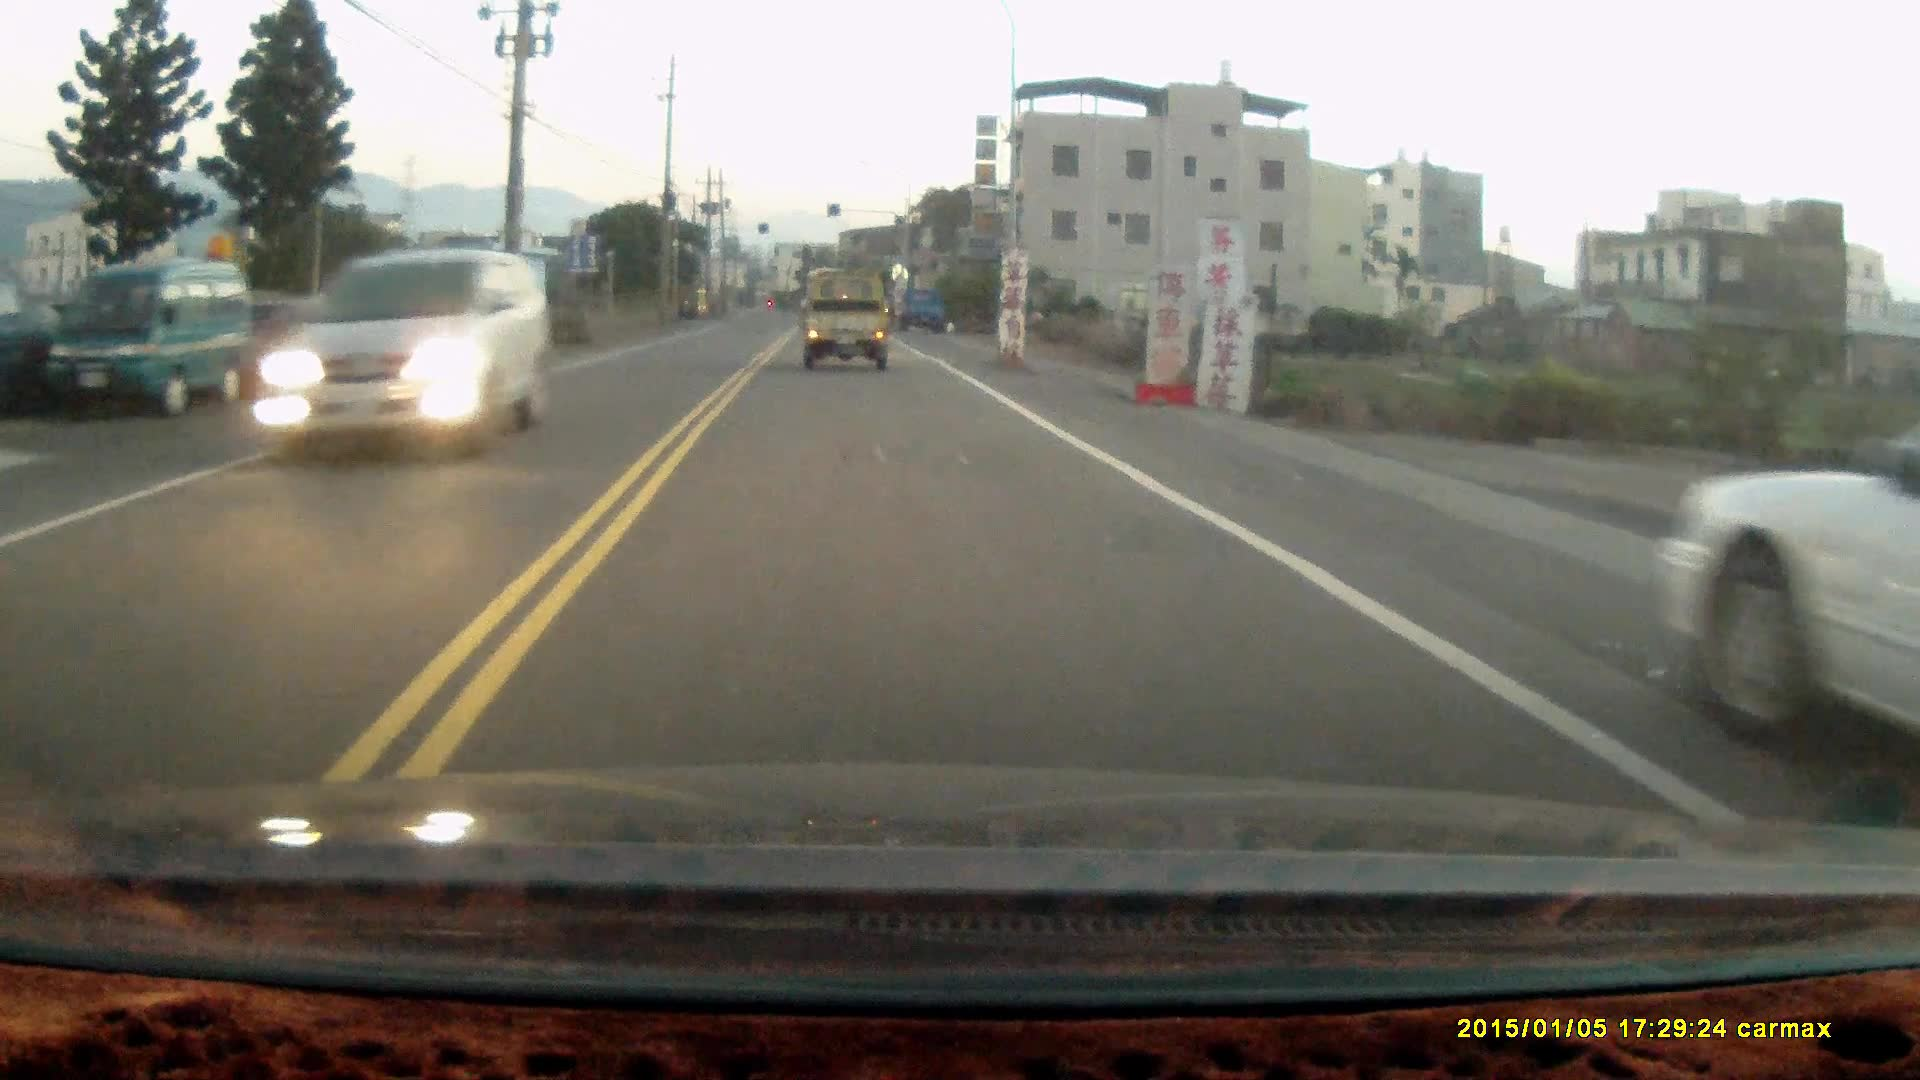vehicle: (1658, 393, 1920, 762), (264, 251, 553, 477), (32, 255, 248, 414), (803, 274, 895, 372), (899, 286, 951, 334)
